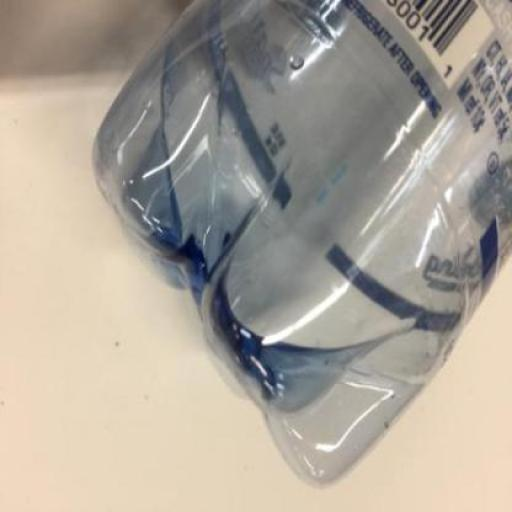plastic: (92, 1, 511, 491)
